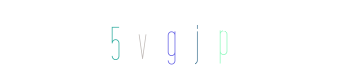5: (101, 0, 181, 80)
G: (132, 0, 212, 80)
J: (137, 0, 217, 80)
P: (140, 0, 220, 80)
V: (127, 0, 207, 80)
